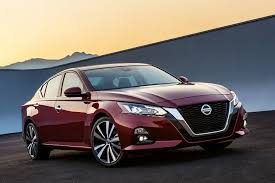Nissan: (27, 75, 246, 154)
